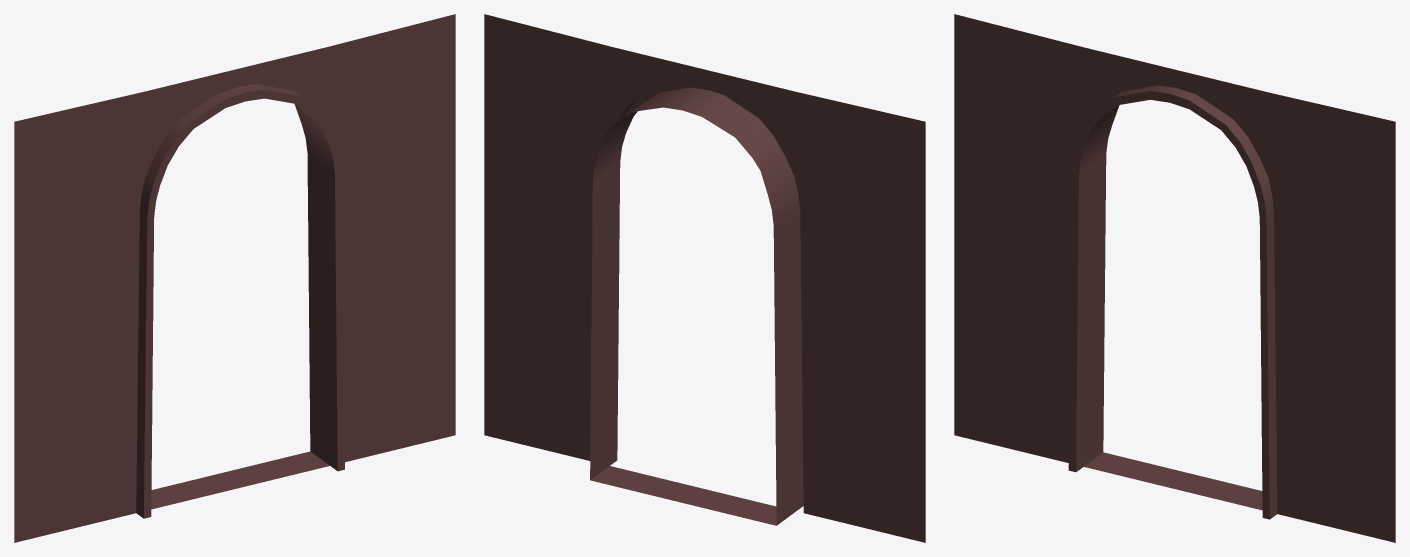
File: AlleyWallC_1.fbx
3 renders of one model, left to right at view 1: azimuth 30°, elevation 25°; view 2: azimuth 150°, elevation 25°; view 3: azimuth 330°, elevation 25°, orthographic.
Parts seen in each view (by area): view 1: AlleyWallC_1; view 2: AlleyWallC_1; view 3: AlleyWallC_1.
Boxes of the visible parts, x1,y1,x2,y2 form: AlleyWallC_1: (14,14,455,542); AlleyWallC_1: (484,14,925,542); AlleyWallC_1: (954,14,1395,542).
Bounding box in the file's own units: 220 × 201 × 23.61.
